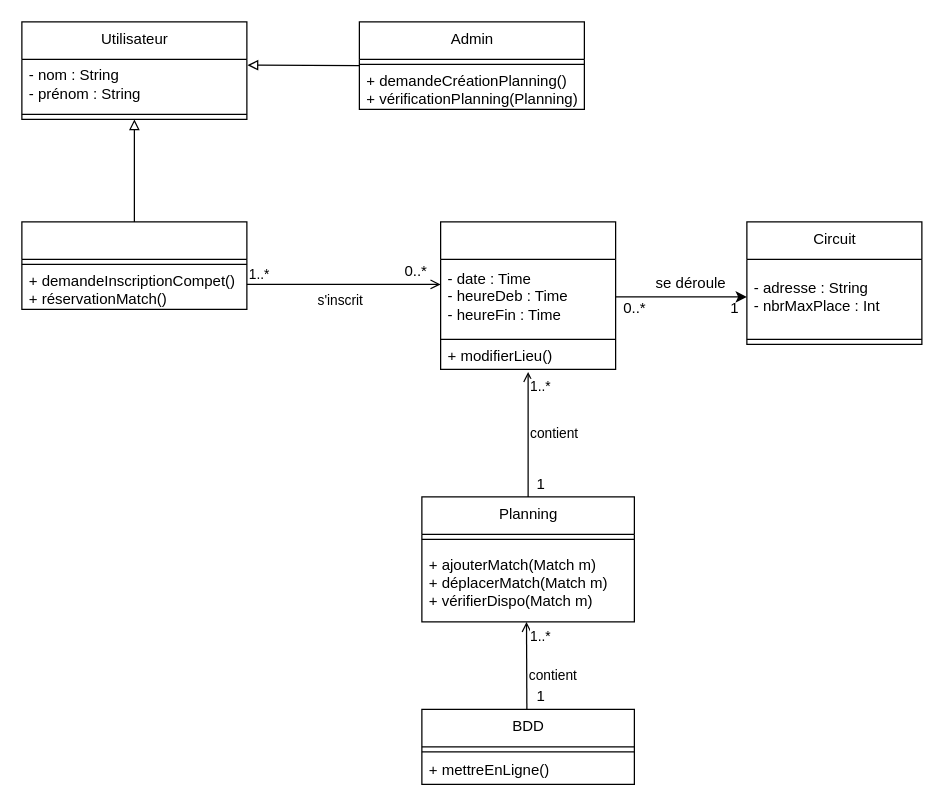
Image size: 944x806. Some labels were removed from this diagram. The shapes that lost their labels are listed below. From the top down, each one's box as (x1, y1, x2, y2) in pixels, then its label:
(21, 221, 247, 309): Adhérent
(439, 221, 616, 369): Match
